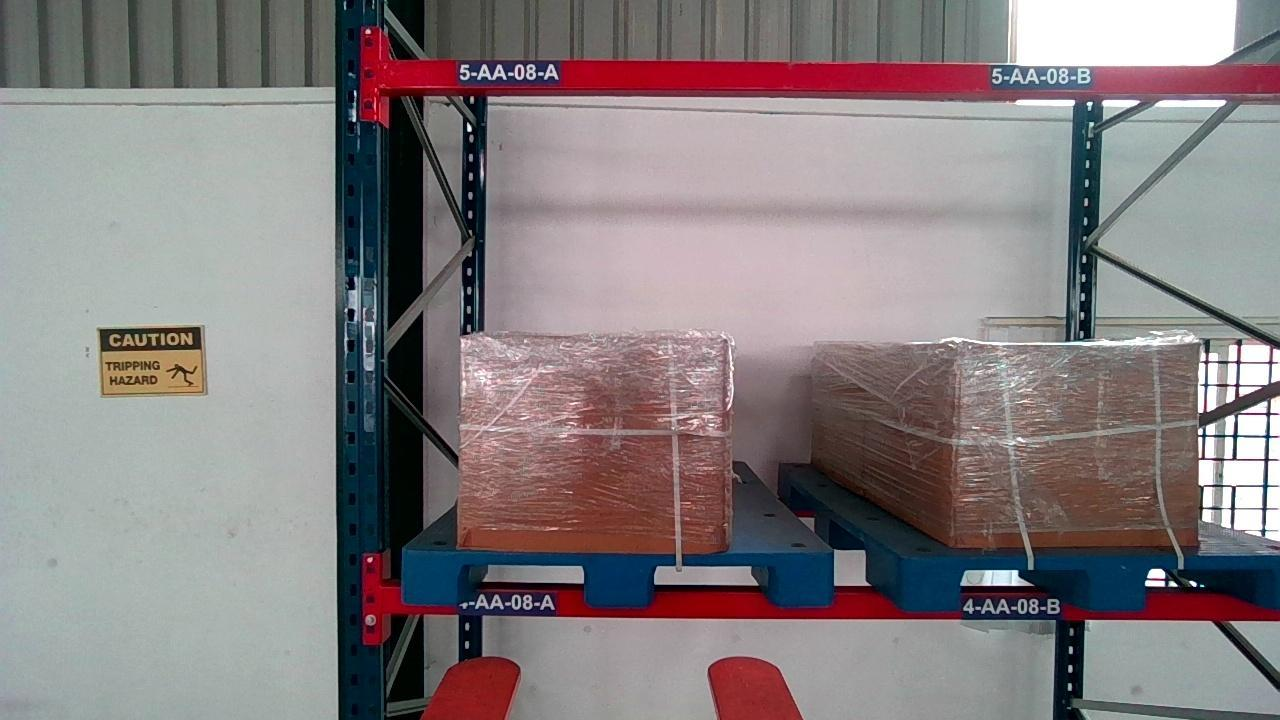h_rack: (382, 59, 1280, 95), (381, 589, 1278, 620)
small_pallet: (403, 549, 834, 603), (911, 557, 1280, 607)
